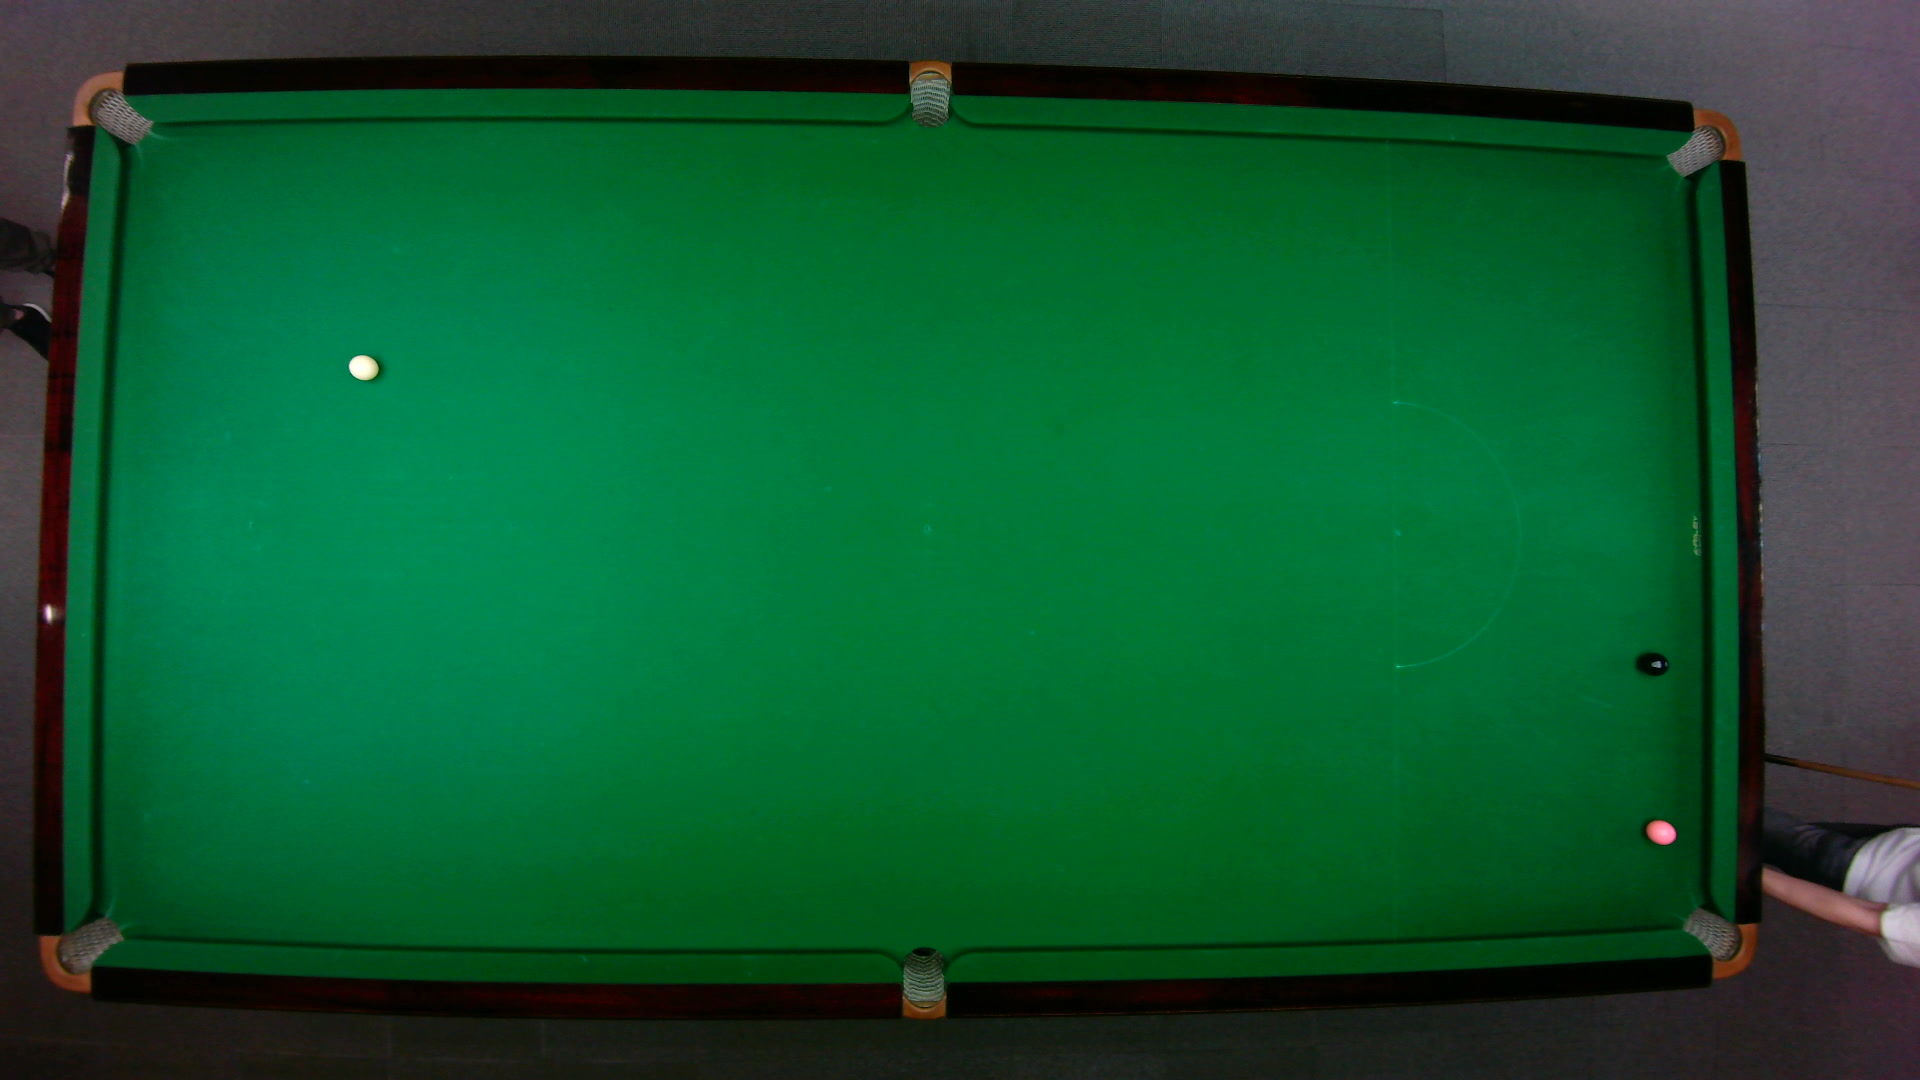bag: (37, 914, 125, 992), (69, 69, 152, 145), (1677, 905, 1758, 978), (1663, 107, 1742, 178), (901, 944, 944, 1021), (909, 58, 949, 128)
black: (1640, 650, 1669, 676)
pink: (1642, 818, 1677, 844)
white: (345, 352, 380, 381)
zone: (1390, 400, 1520, 669)
